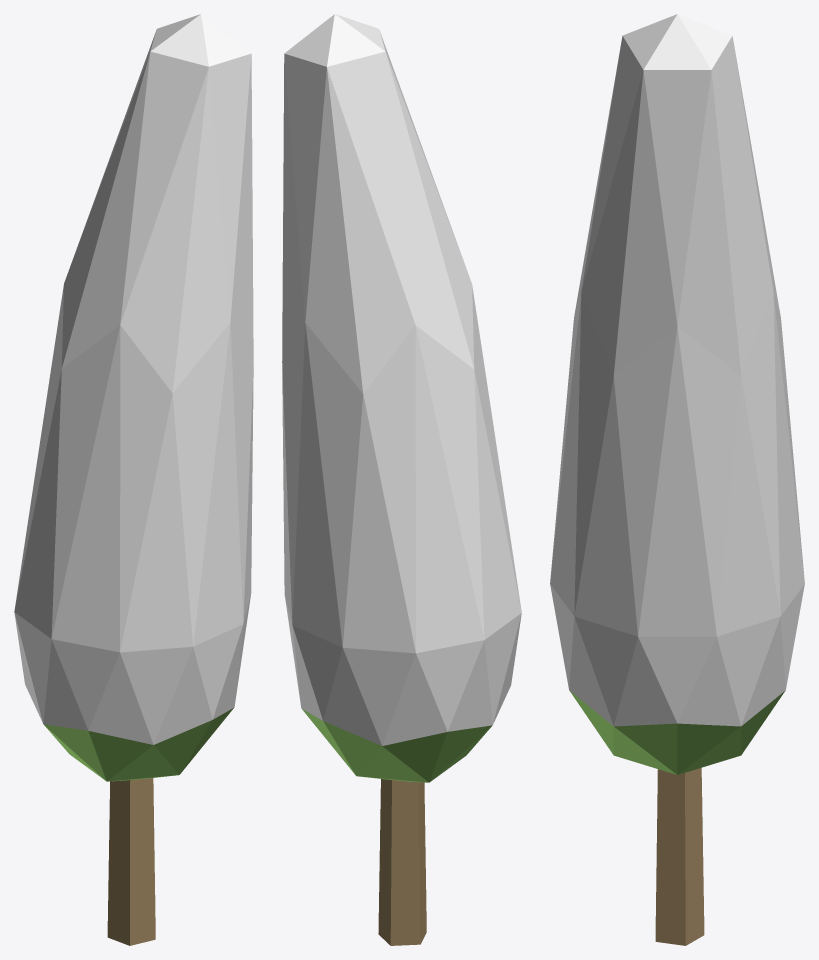
The model's file is Thuja_Tree_m_Snow_09_LOD.fbx.
3 views of the same model, side by side, from view 1: azimuth 30°, elevation 25°; view 2: azimuth 150°, elevation 25°; view 3: azimuth 270°, elevation 25° (orthographic). The views are drawn at different scales.
Visible parts, largest first — view 1: Thuja_Tree_m_Snow_09_LOD0; view 2: Thuja_Tree_m_Snow_09_LOD0; view 3: Thuja_Tree_m_Snow_09_LOD0.
Part boxes in pixels (box(x1,y1,x2,y2)): Thuja_Tree_m_Snow_09_LOD0: box(14, 14, 253, 945); Thuja_Tree_m_Snow_09_LOD0: box(282, 14, 521, 945); Thuja_Tree_m_Snow_09_LOD0: box(550, 14, 804, 945).
Size of what is drawn, in the model's own units: 120 by 497 by 120.
